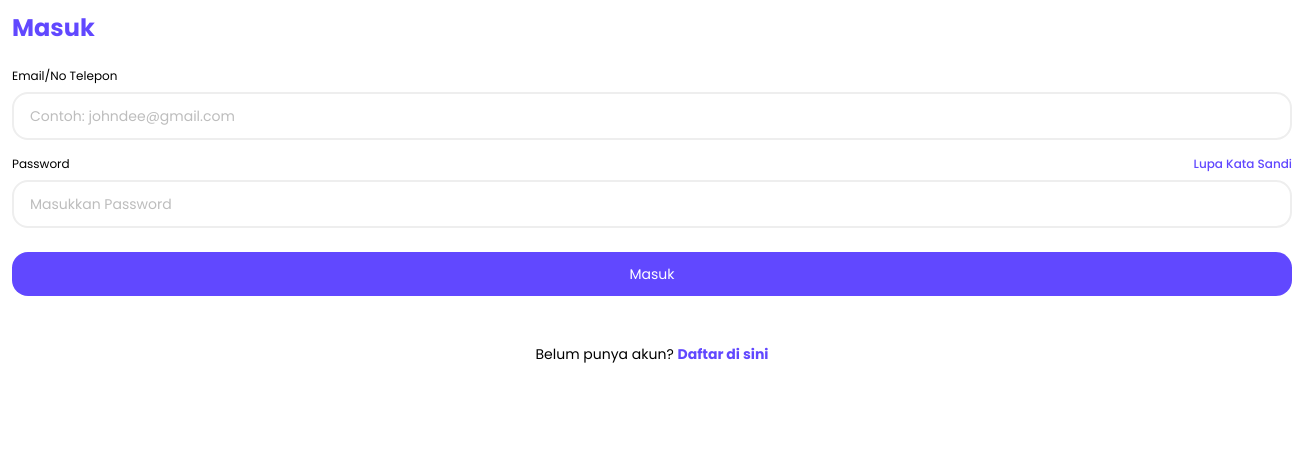
Test: Login Component › should display error message for empty fields
Click the button with test id "button-login".
click(652, 270)  # box [12, 244, 1292, 296]
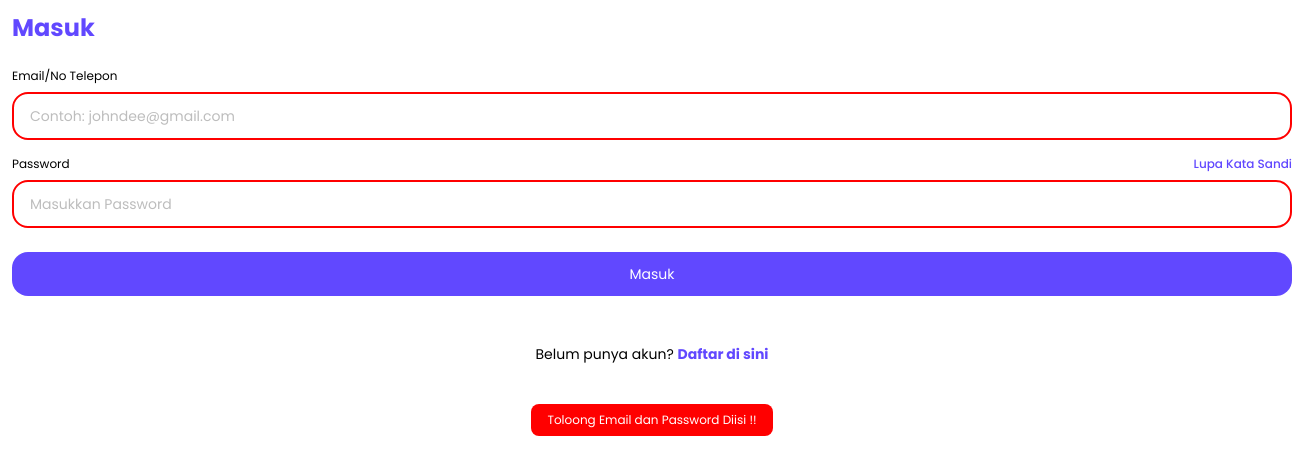
Result: the text "Toloong Email dan Password Diisi !!" is shown at [531, 404, 773, 436]
